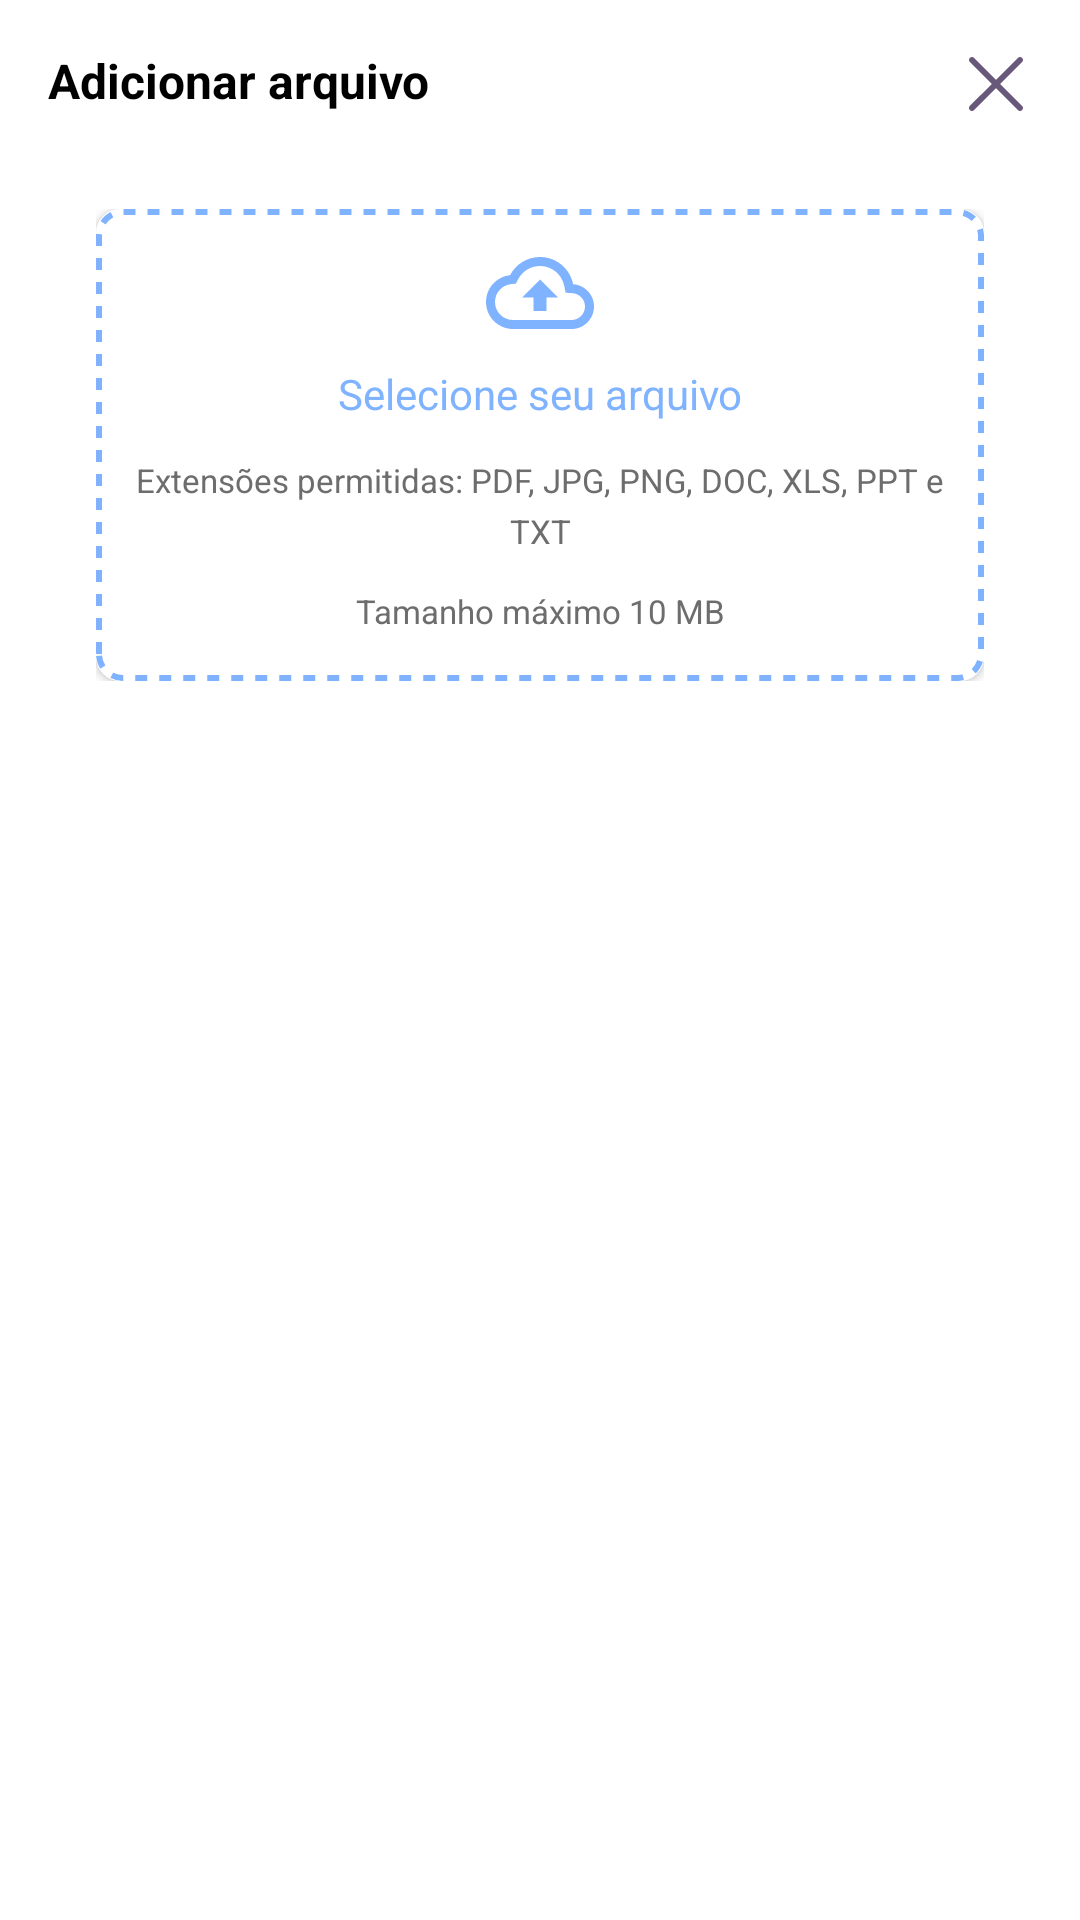

Icons on this 1080px x 1920px Android screen, each with its box as (x1, y1, x2, y2):
close: (969, 57, 1023, 111)
upload: (486, 257, 594, 329)
